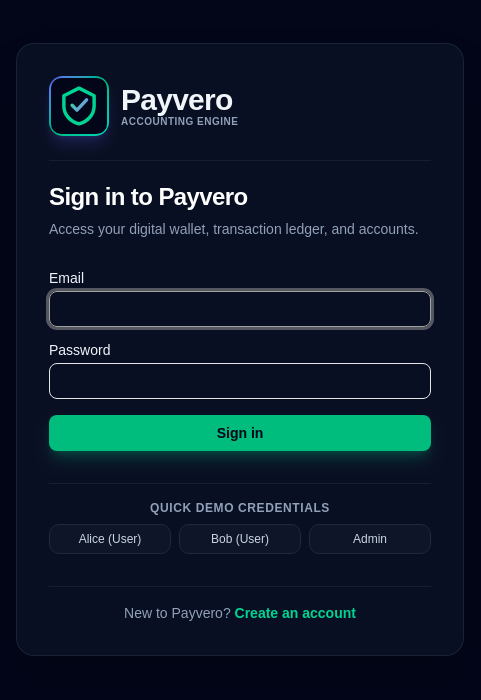
it: errors that name no field › surfaces RATE_LIMIT_EXCEEDED as a form-level alert
The width and height of the screenshot is (481, 700).
Type "alice@payvero.dev" into the field labelled "Email".
click(240, 308); type("alice@payvero.dev")  # box [49,290,431,326]
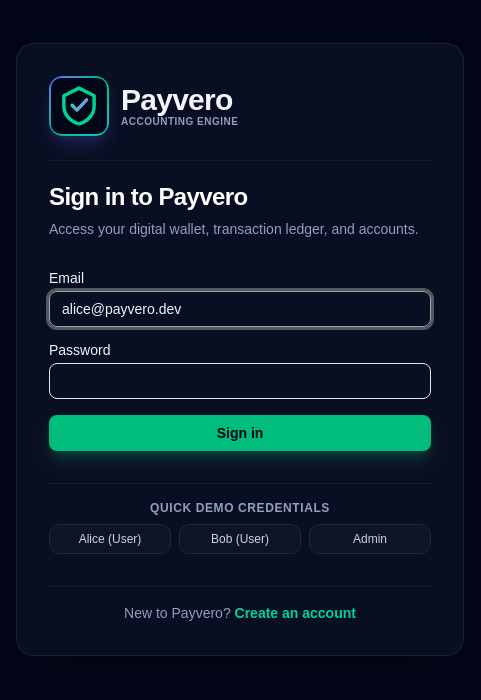
Type "demo-password-123" into the password field labelled "Password".
click(240, 380); type("demo-password-123")  # box [49,362,431,398]
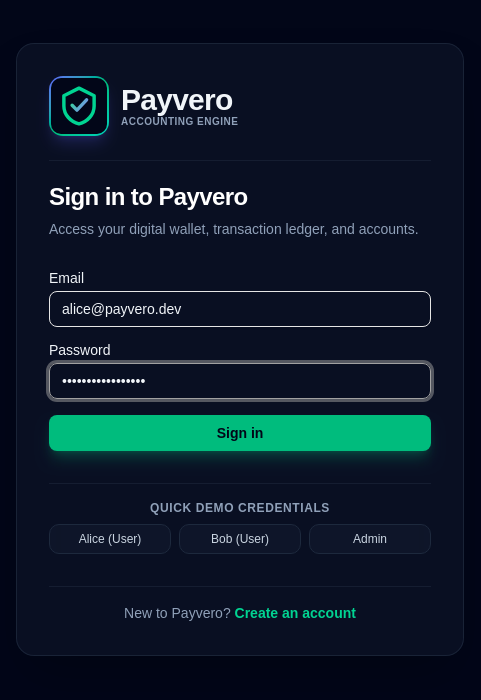
Click the button "Sign in".
click(240, 432)  # box [49,414,431,450]
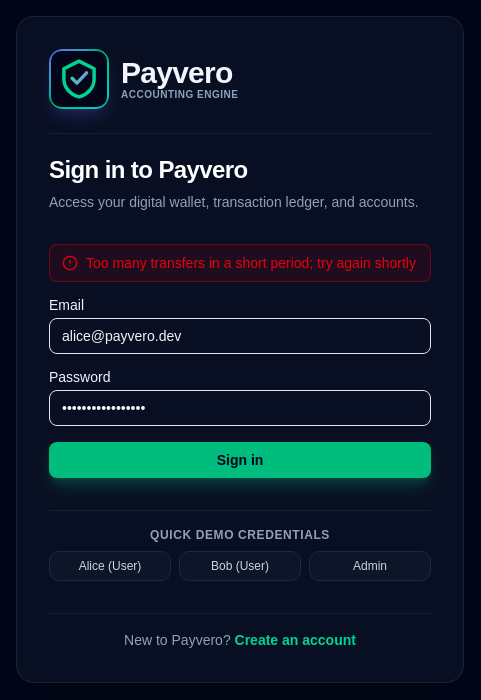
expect the message reads "Too many transfers in a short period; try again shortly": met, box [86,254,416,270]
